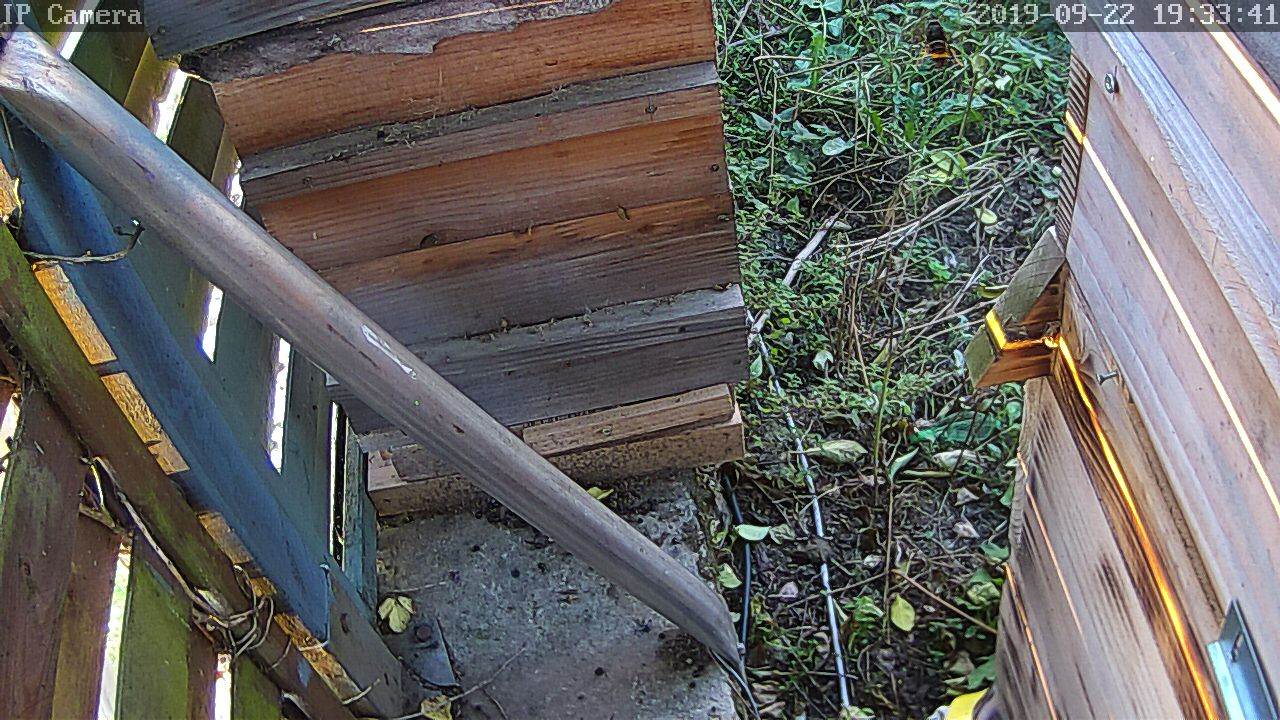hornet: (914, 15, 966, 70)
